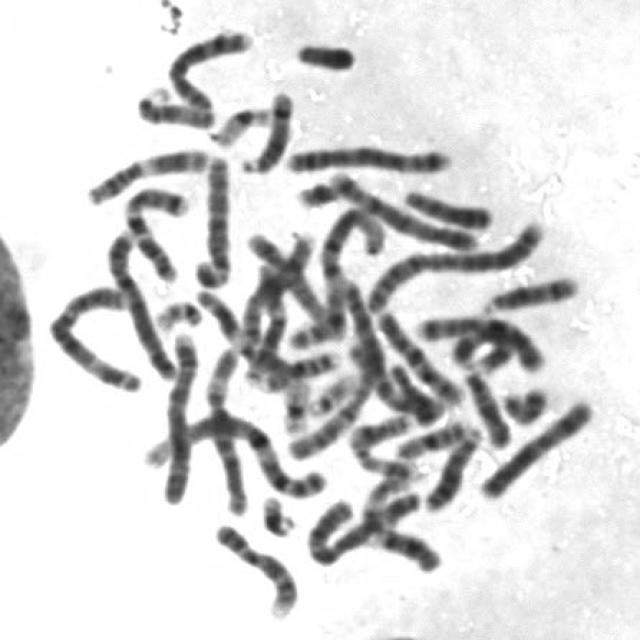A1: (135, 404, 330, 502), (287, 201, 392, 353)
A2: (280, 274, 384, 460), (360, 215, 548, 315)
A3: (43, 278, 145, 394), (300, 483, 422, 568)
B4: (100, 221, 180, 382), (155, 325, 201, 509)
B5: (323, 163, 479, 252), (280, 138, 456, 176)
C10: (372, 306, 466, 408), (350, 331, 442, 423)
C11: (190, 281, 314, 393), (78, 140, 212, 208)
C12: (240, 255, 310, 389), (248, 237, 348, 323)
C6: (198, 339, 251, 519), (190, 148, 236, 290)
C7: (406, 306, 547, 375), (115, 178, 192, 285)
C8: (161, 20, 258, 126), (235, 226, 320, 346)
C9: (207, 516, 301, 621), (451, 320, 524, 372)
D13: (416, 420, 484, 514), (396, 180, 498, 232)
D14: (231, 82, 297, 176), (475, 267, 584, 316)
D15: (455, 364, 512, 451), (130, 81, 217, 130)
E16: (250, 344, 344, 393), (389, 412, 472, 460)
E17: (342, 414, 421, 485), (344, 434, 422, 483)
E18: (364, 520, 444, 574), (495, 379, 551, 428)
F19: (204, 98, 275, 149), (276, 374, 314, 437)
F20: (495, 379, 551, 428), (372, 473, 409, 531)
G21: (288, 170, 349, 210), (255, 488, 300, 540)
G22: (302, 368, 358, 419), (151, 292, 205, 332)
X: (472, 393, 597, 502)
Y: (290, 35, 360, 73)
